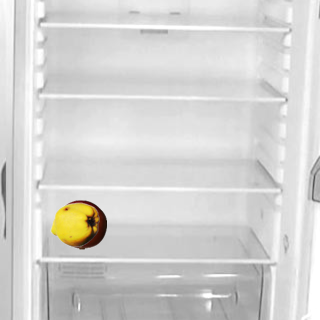Apple Braeburn: (56, 199, 106, 249)
Quince: (49, 199, 99, 249)
